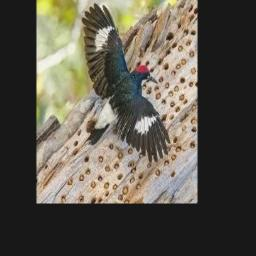Woodpecker: (82, 3, 170, 162)
